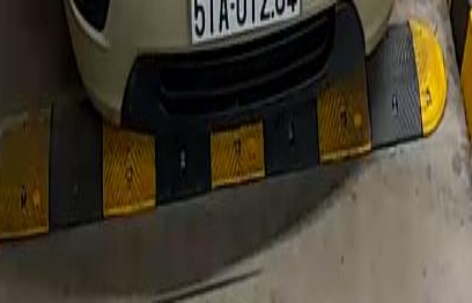plate: (187, 1, 303, 46)
